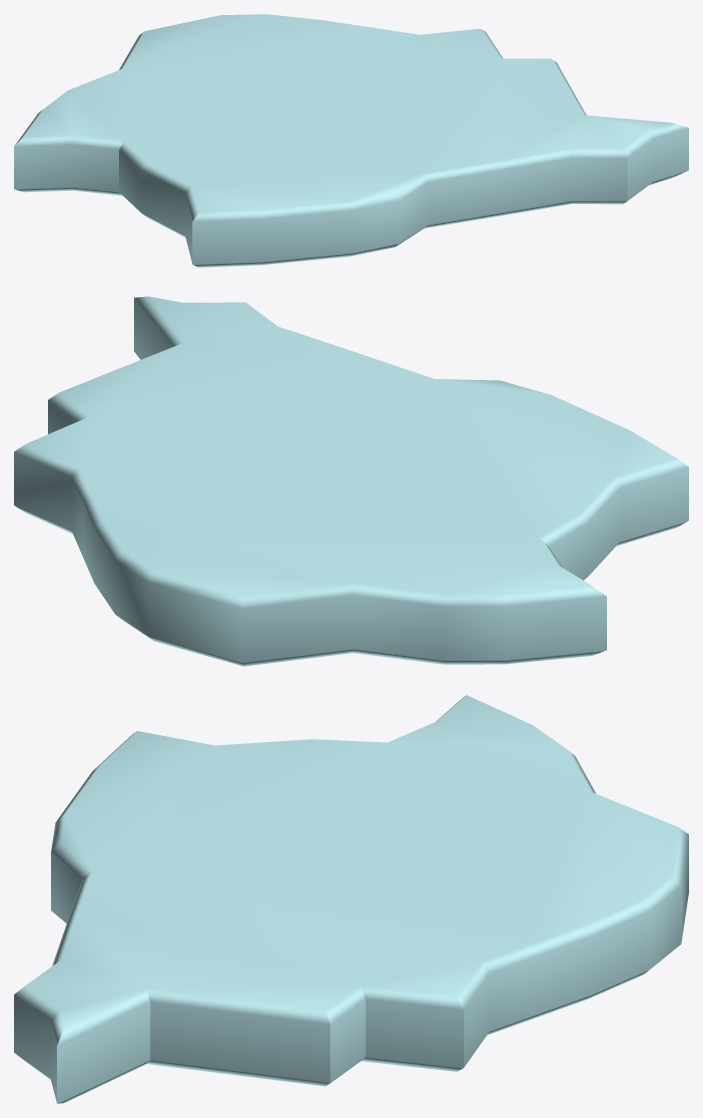
File: ice_floe_medium_002.fbx
The picture shows the model from 3 angles, top to bottom: view 1: azimuth 30°, elevation 25°; view 2: azimuth 150°, elevation 25°; view 3: azimuth 270°, elevation 25°; orthographic projection. The views are drawn at different scales.
Parts seen in each view (by area): view 1: ice_floe_medium_002; view 2: ice_floe_medium_002; view 3: ice_floe_medium_002.
Boxes of the visible parts, box(x1,y1,x2,y2) form: ice_floe_medium_002: box(14, 14, 688, 267); ice_floe_medium_002: box(14, 296, 688, 666); ice_floe_medium_002: box(14, 695, 688, 1103).
Bounding box in the file's own units: 885 × 723 × 89.44.
